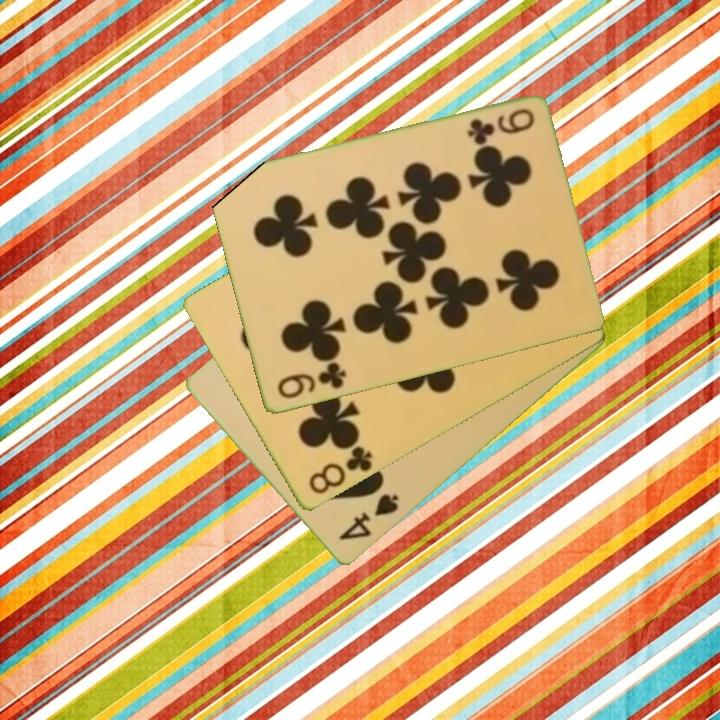4s: (335, 490, 402, 544)
8c: (305, 443, 376, 498)
9c: (273, 359, 349, 403), (463, 105, 537, 147)
